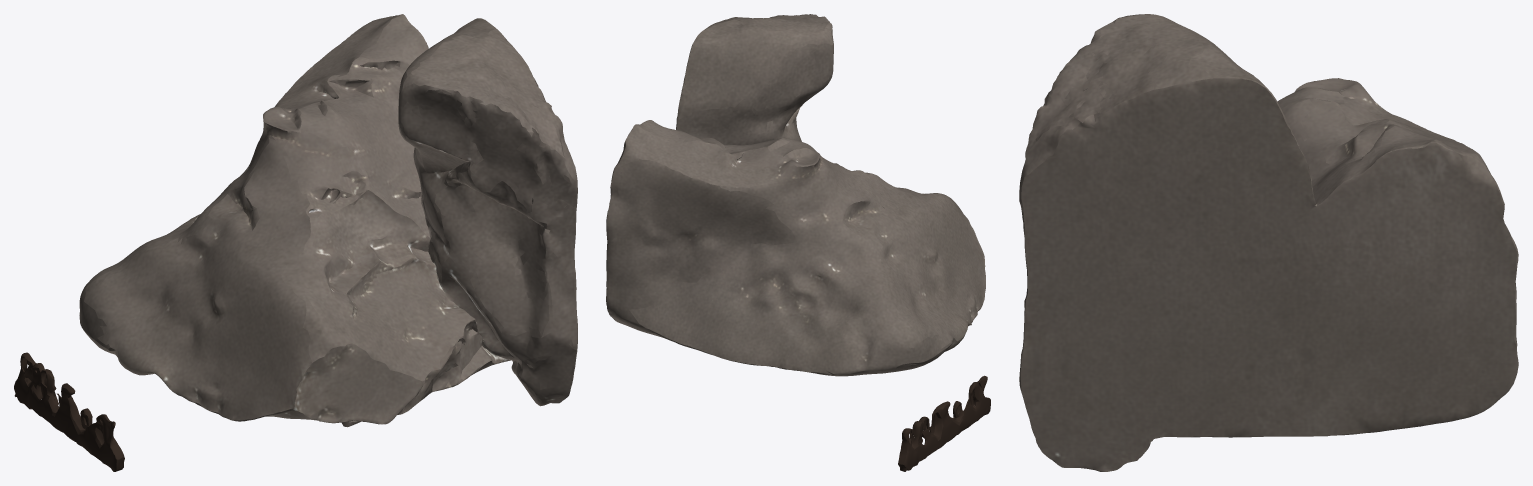
3 renders of one model, left to right at view 1: azimuth 30°, elevation 25°; view 2: azimuth 150°, elevation 25°; view 3: azimuth 270°, elevation 25°, orthographic. The views are drawn at different scales.
Parts seen in each view (by area): view 1: world; view 2: world; view 3: world.
Part boxes in pixels (box(x1,y1,x2,y2)): world: box(14, 14, 577, 471); world: box(606, 14, 990, 471); world: box(1019, 14, 1518, 471).
Bounding box in the file's own units: 0.35 × 0.3482 × 0.3509.
Materials: 1 (1 with a texture image).
